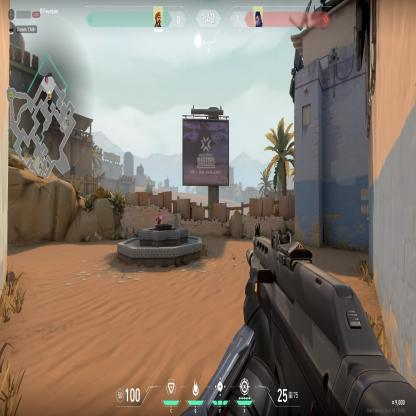enemy: (155, 209, 162, 225)
